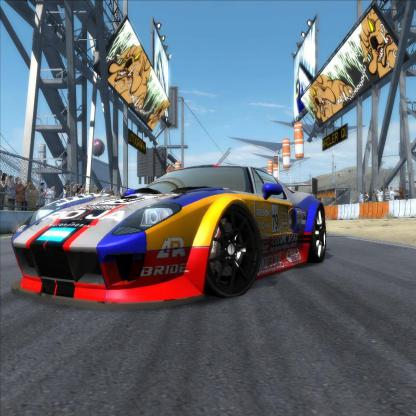Vehicle: (11, 164, 327, 304)
